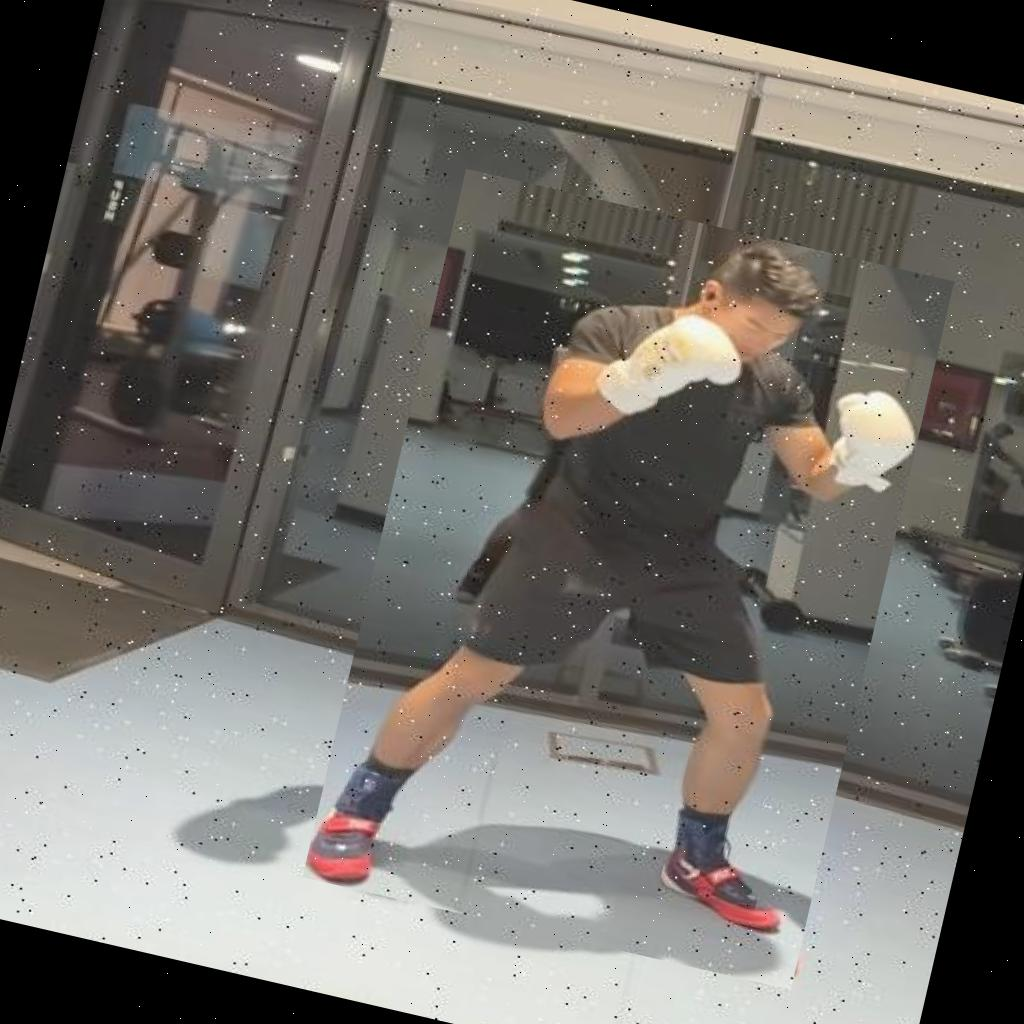no punch: (303, 169, 954, 990)
